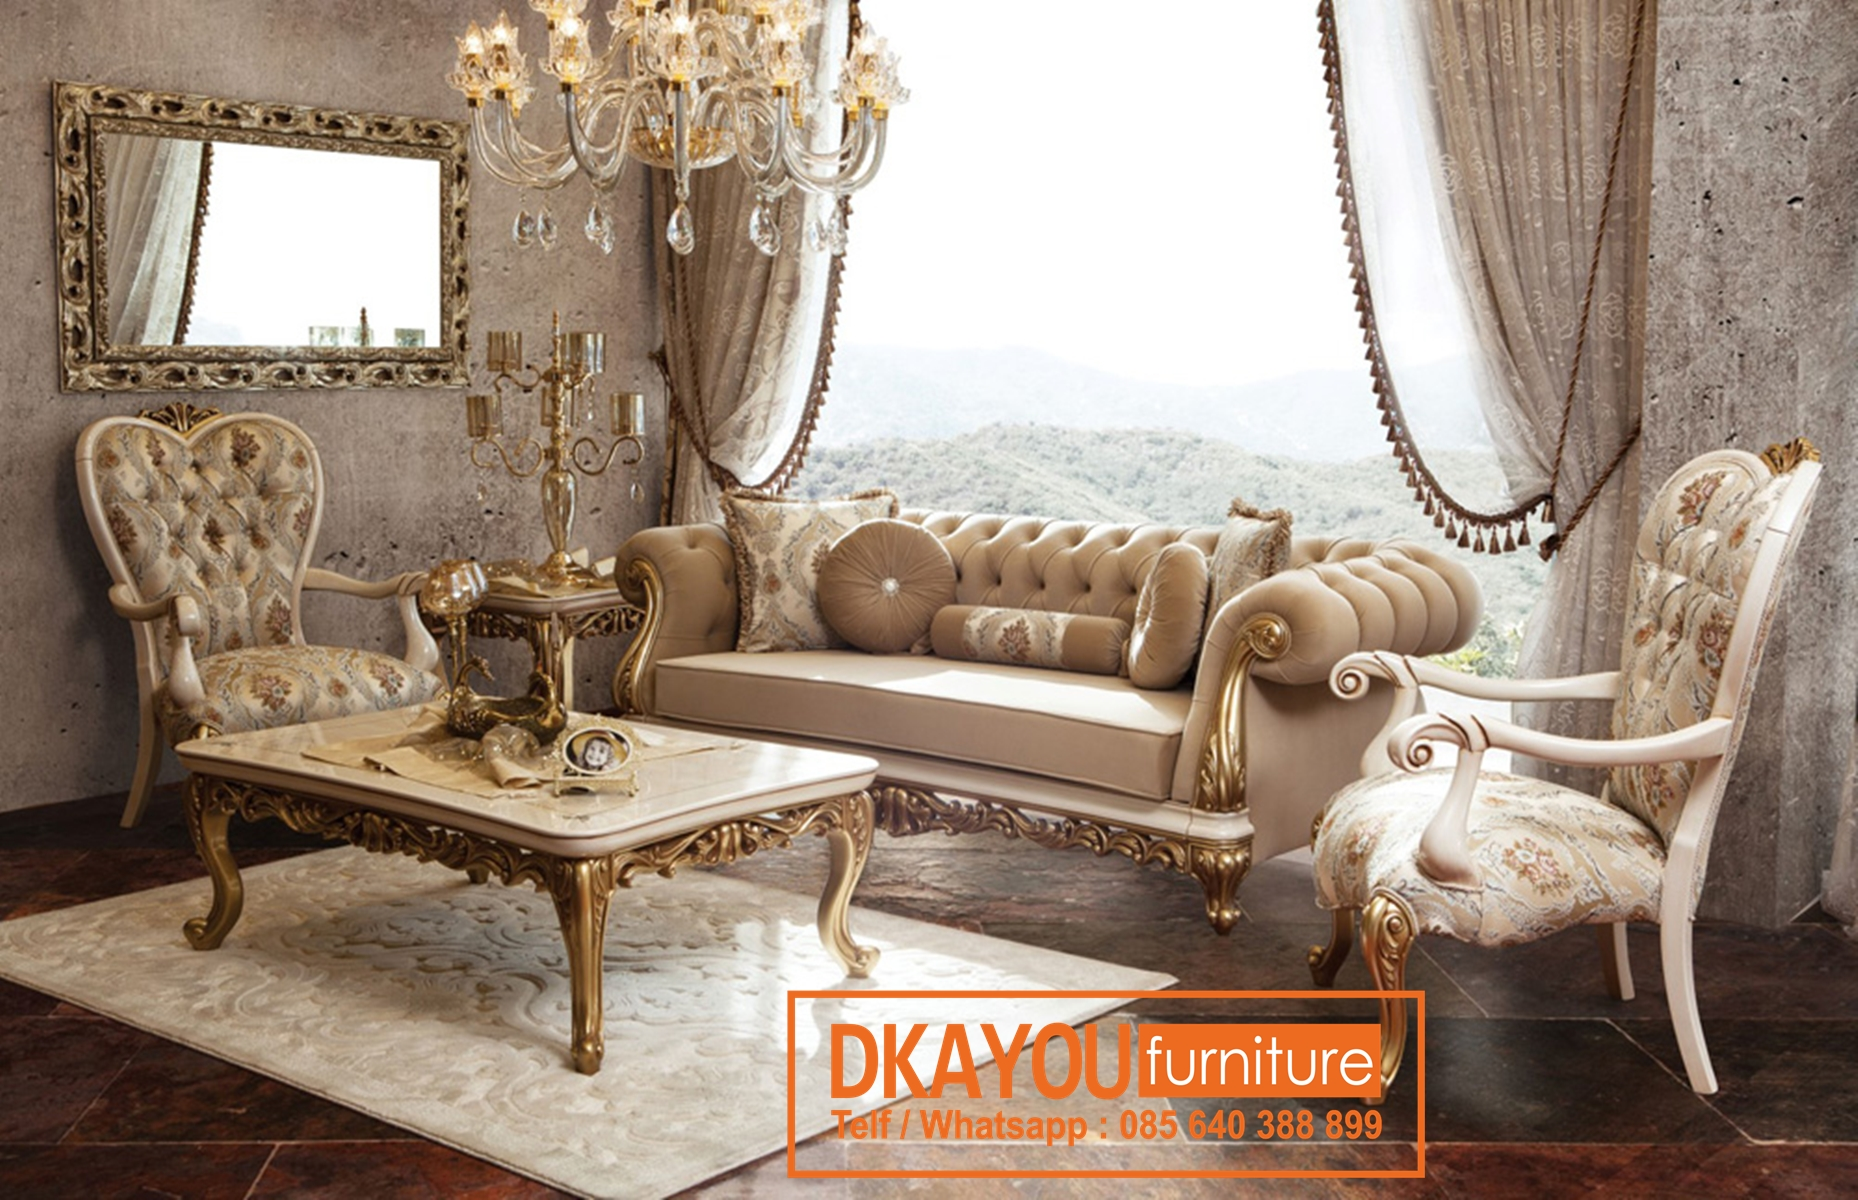bantal: (722, 492, 876, 651), (1204, 498, 1287, 600)
kursi: (1330, 467, 1834, 1098), (70, 423, 436, 718)
lampu: (450, 1, 892, 255)
meja: (163, 683, 892, 1029)
sova: (624, 496, 1465, 895)
